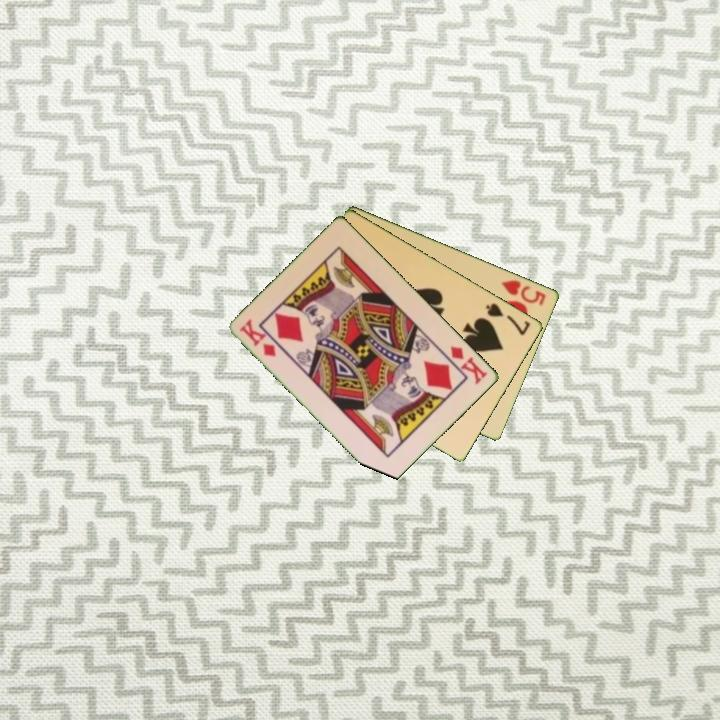5h: (498, 276, 549, 309)
7s: (482, 299, 534, 338)
Kd: (447, 342, 491, 388), (236, 316, 280, 360)
